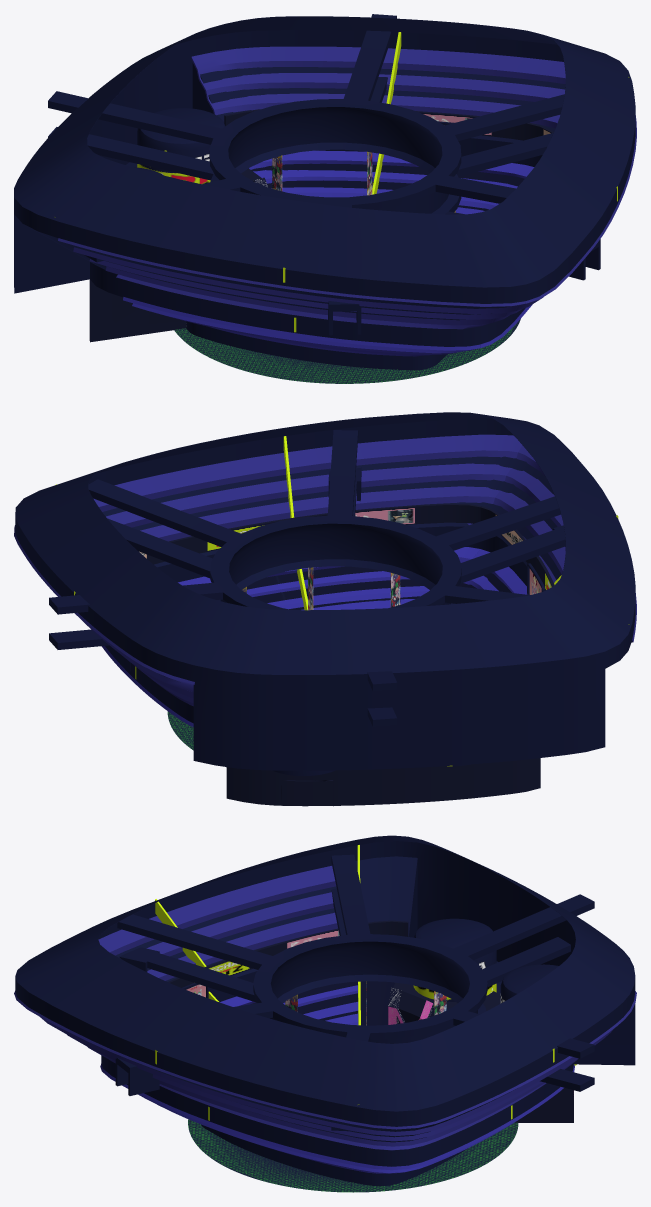
The model's file is mainstage (1) 1.fbx.
3 views of the same model, one above another, from view 1: azimuth 30°, elevation 25°; view 2: azimuth 150°, elevation 25°; view 3: azimuth 270°, elevation 25° (orthographic). The views are drawn at different scales.
Parts seen in each view (by area): view 1: 球場, 天頂, 階梯2, 階梯, Circle.001, 球場.001, 油桶.003, 柵欄1, 分隔, Plane; view 2: 球場, 天頂, 階梯2, 球場.001, 階梯, 柵欄1, 分隔, Plane; view 3: 球場, 天頂, 階梯2, Circle.001, 階梯, 球場.001, 油桶, 柵欄1, 油桶.003, 分隔.
Boxes of the visible parts, x1,y1,x2,y2 form: 球場: [14, 16, 635, 370]; 天頂: [48, 14, 600, 335]; 階梯2: [58, 46, 636, 329]; 階梯: [123, 150, 534, 356]; Circle.001: [174, 319, 520, 383]; 球場.001: [89, 168, 267, 342]; 油桶.003: [137, 108, 225, 184]; 柵欄1: [224, 109, 553, 140]; 分隔: [54, 32, 629, 332]; Plane: [272, 151, 455, 212]; 球場: [15, 412, 635, 770]; 天頂: [49, 430, 565, 726]; 階梯2: [14, 434, 636, 706]; 球場.001: [226, 758, 540, 806]; 階梯: [101, 547, 527, 727]; 柵欄1: [139, 503, 554, 589]; 分隔: [56, 436, 629, 679]; Plane: [242, 567, 400, 610]; 球場: [15, 835, 635, 1186]; 天頂: [115, 854, 594, 1131]; 階梯2: [14, 866, 636, 1150]; Circle.001: [188, 1119, 518, 1192]; 階梯: [100, 985, 574, 1173]; 球場.001: [388, 982, 573, 1122]; 油桶: [413, 918, 496, 1001]; 柵欄1: [168, 920, 408, 987]; 油桶.003: [500, 964, 576, 1065]; 分隔: [155, 845, 554, 1120].
Size of the model in its own units: 78808 by 24909 by 76504.
